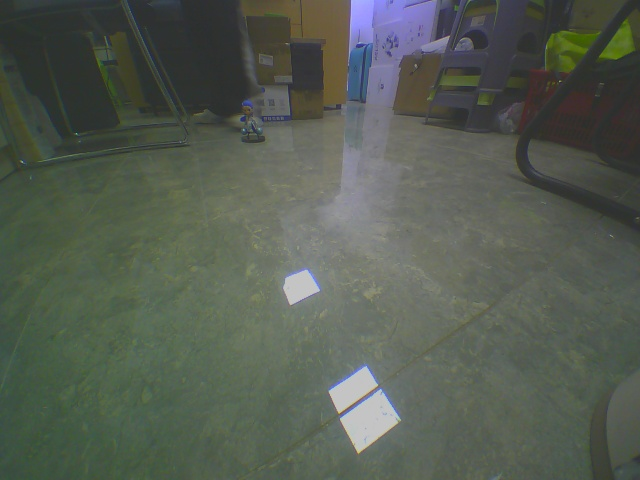Aobing: (233, 98, 266, 145)
